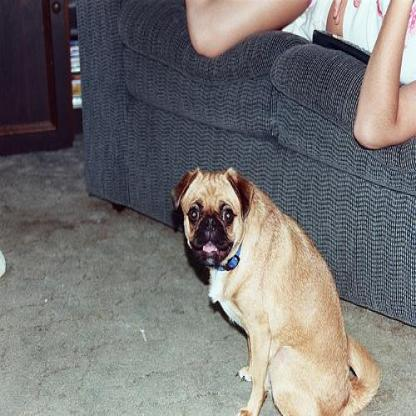pug: (171, 164, 383, 414)
